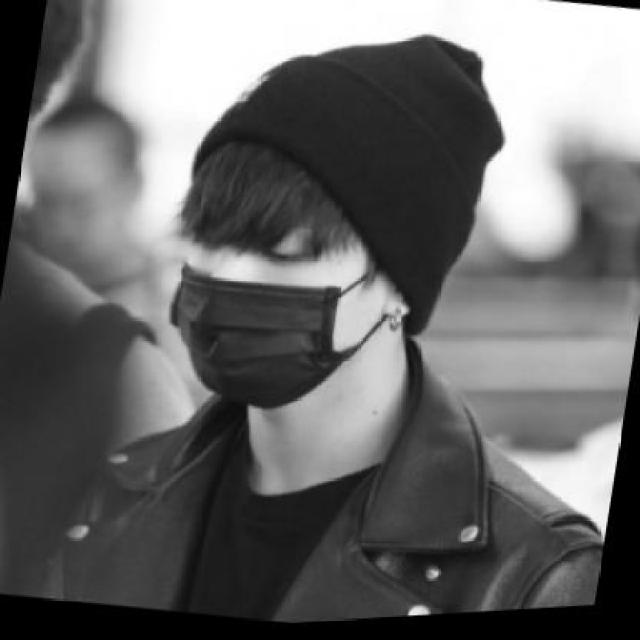hat: (155, 0, 528, 365)
